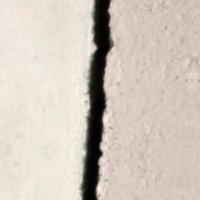crack: (63, 0, 132, 199)
